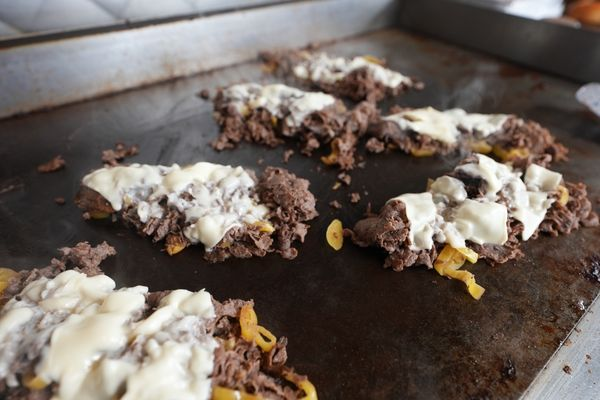sushi: (7, 23, 598, 389), (1, 241, 316, 395)
